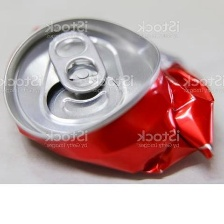can: (2, 14, 215, 178)
